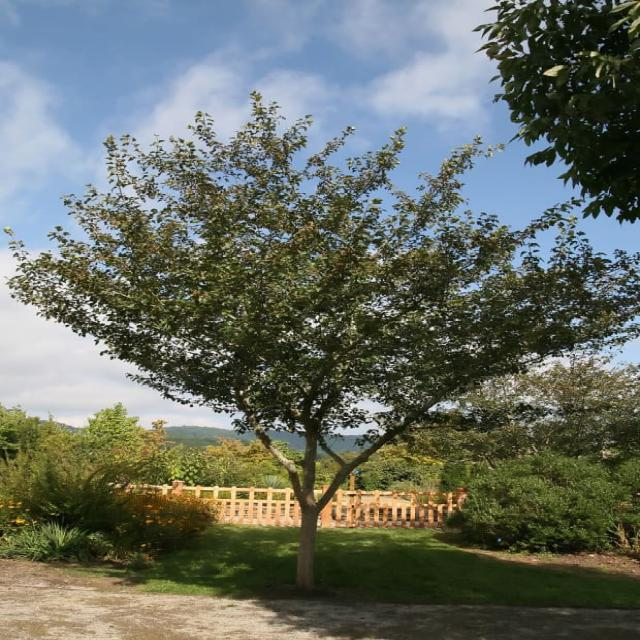foliage: (6, 95, 639, 592), (441, 442, 630, 556)
